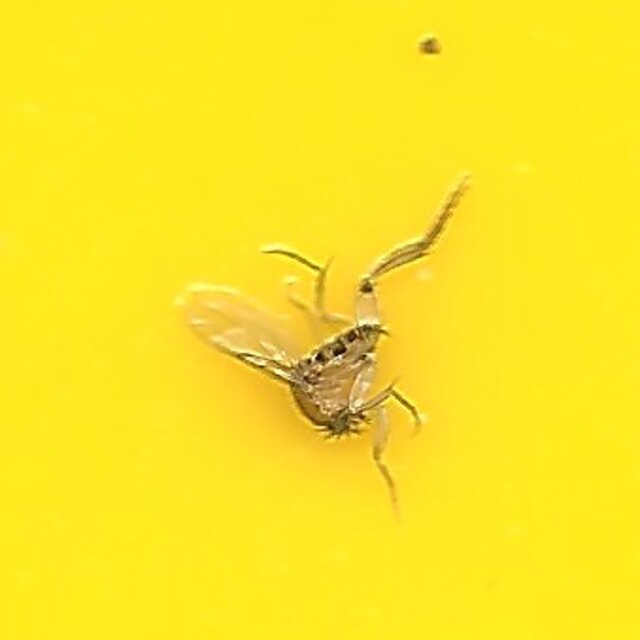Brachycera: (189, 178, 451, 462)
